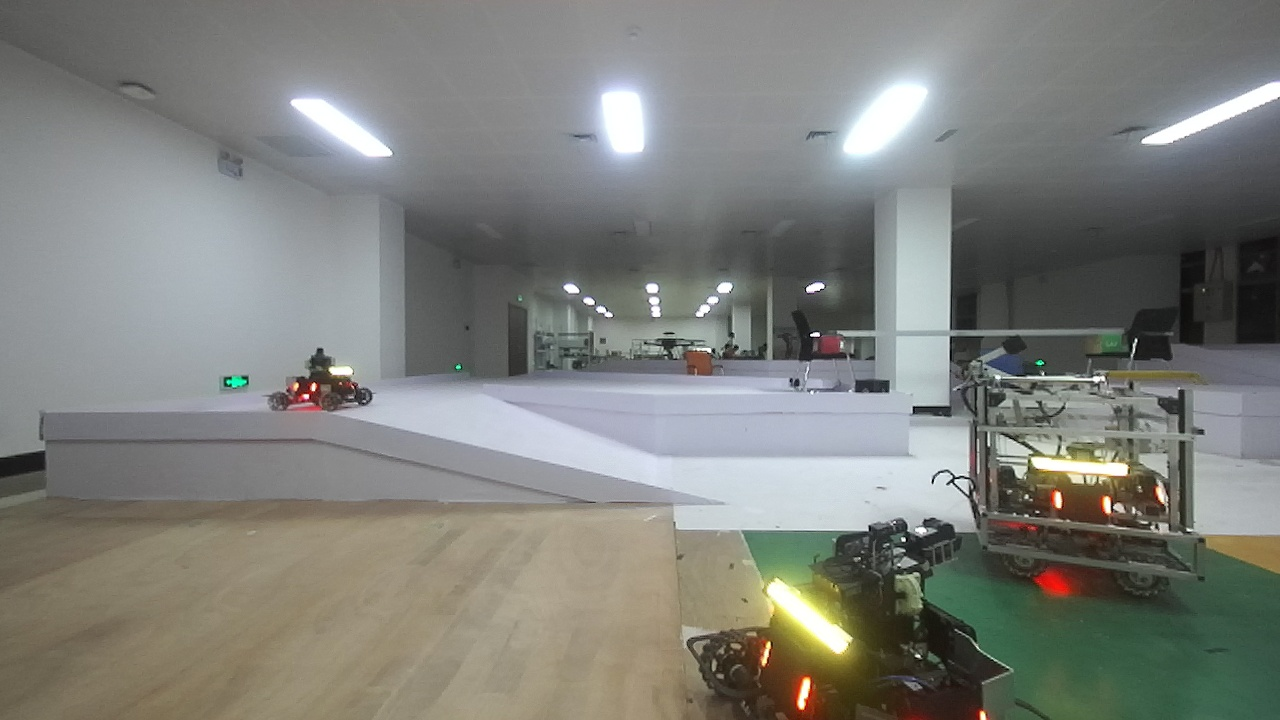car: (950, 335, 1227, 618), (676, 517, 1016, 720), (261, 333, 391, 436)
